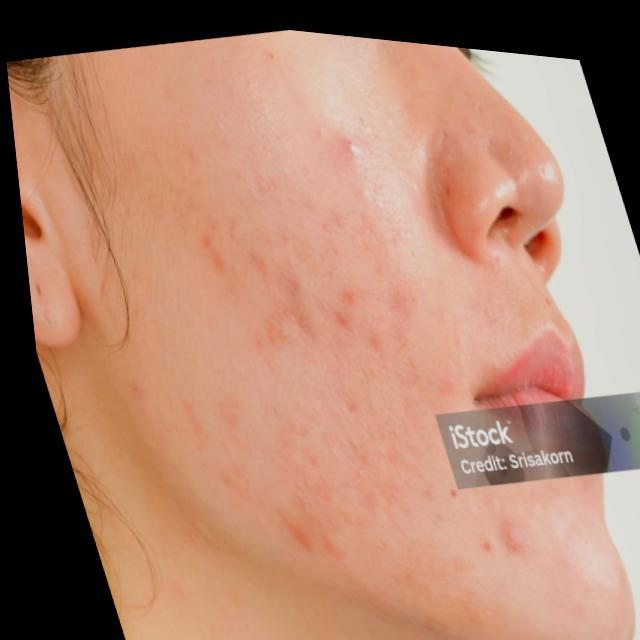papule: (182, 200, 438, 367), (169, 384, 354, 555), (483, 500, 519, 552)
pustule: (330, 114, 367, 158)
